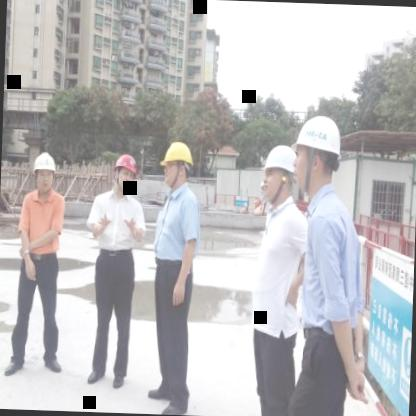helmet: (293, 112, 346, 198), (259, 142, 296, 208), (160, 138, 194, 189), (30, 148, 60, 196), (111, 150, 138, 196)
